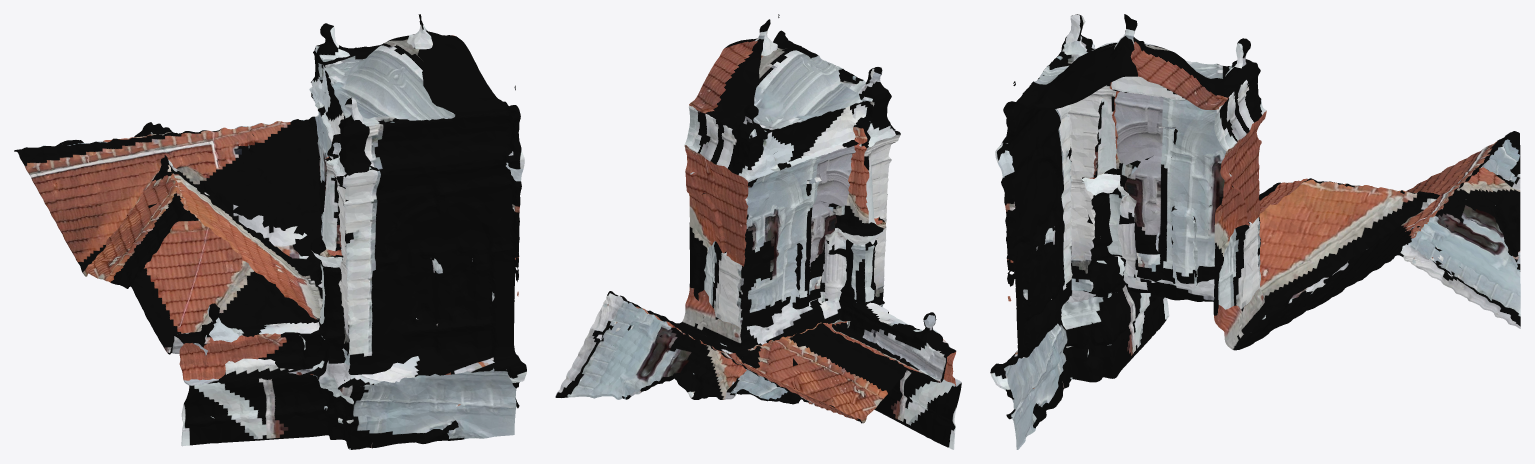
3 renders of one model, left to right at view 1: azimuth 30°, elevation 25°; view 2: azimuth 150°, elevation 25°; view 3: azimuth 270°, elevation 25°, orthographic. The views are drawn at different scales.
Parts seen in each view (by area): view 1: node_53; view 2: node_53; view 3: node_53.
Part boxes in pixels (x1,y1,x2,y2): node_53: (14,14,526,449); node_53: (555,14,961,449); node_53: (990,14,1520,449).
Size of the model in its own units: 6.94 by 9.97 by 11.57.
1 material, 1 textured.
